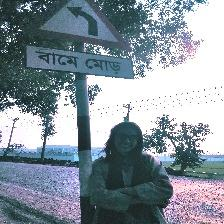Left-Turn: (25, 0, 136, 77)
